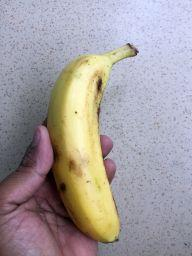banana: (45, 41, 140, 246)
